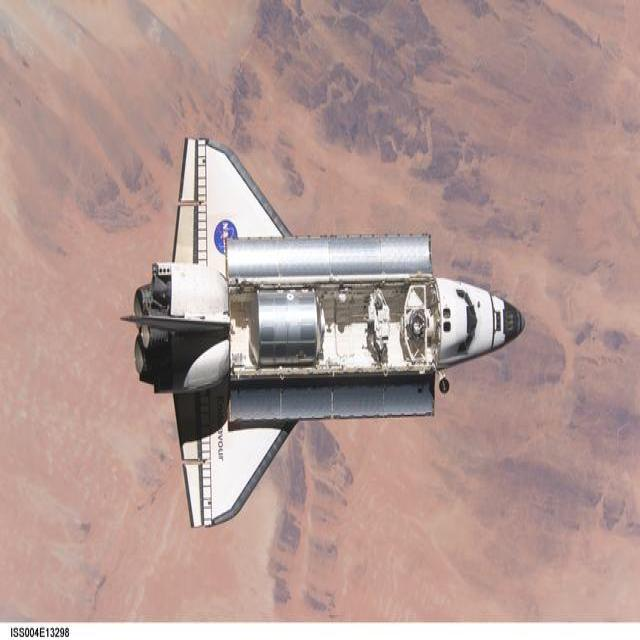medium_debris: (126, 140, 524, 526)
